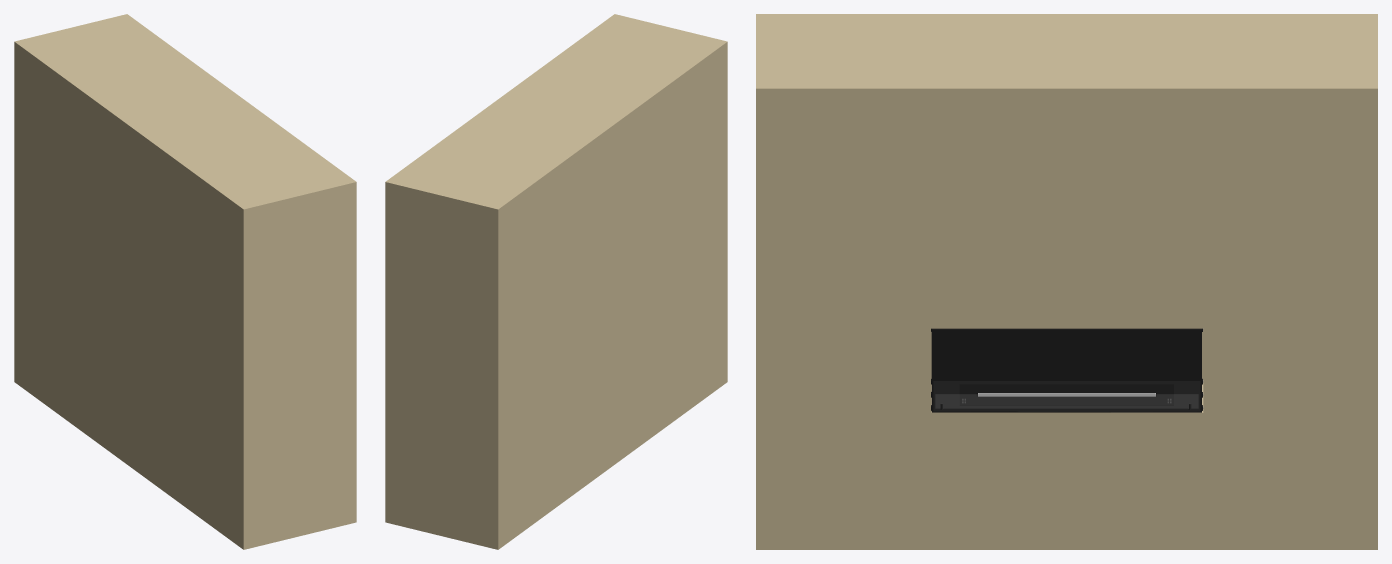
File: Foco_inbuilt_AR_test2.gltf
3 renders of one model, left to right at view 1: azimuth 30°, elevation 25°; view 2: azimuth 150°, elevation 25°; view 3: azimuth 270°, elevation 25°, orthographic. The views are drawn at different scales.
Parts seen in each view (by area): view 1: 11697bf0-3aa1-4121-85df-bd5328d8e866; view 2: 11697bf0-3aa1-4121-85df-bd5328d8e866; view 3: 11697bf0-3aa1-4121-85df-bd5328d8e866, d90167d8-6485-4a0c-ad1d-79429caaa200.
Boxes of the visible parts, bbox=[...] form: 11697bf0-3aa1-4121-85df-bd5328d8e866: bbox=[14, 14, 356, 549]; 11697bf0-3aa1-4121-85df-bd5328d8e866: bbox=[385, 14, 727, 549]; 11697bf0-3aa1-4121-85df-bd5328d8e866: bbox=[756, 14, 1377, 549]; d90167d8-6485-4a0c-ad1d-79429caaa200: bbox=[959, 384, 1173, 405].
Bounding box in the file's own units: 98.75 × 282 × 345.
